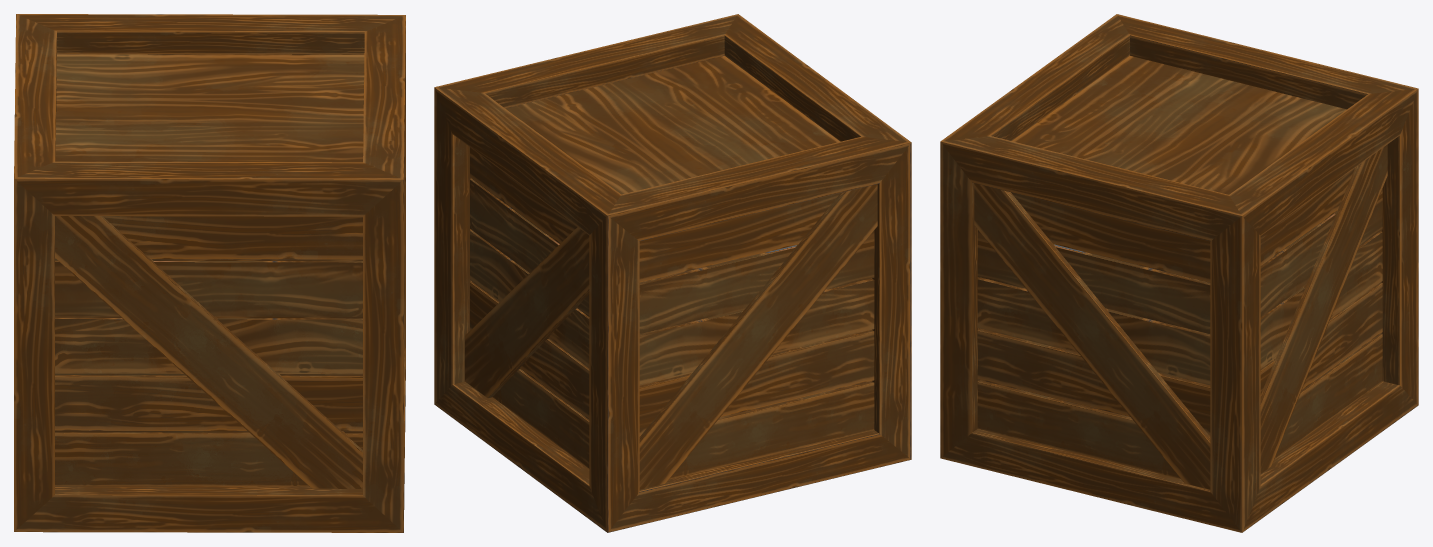
The picture shows the model from 3 angles, left to right: view 1: azimuth 30°, elevation 25°; view 2: azimuth 150°, elevation 25°; view 3: azimuth 270°, elevation 25°; orthographic projection. The views are drawn at different scales.
Parts seen in each view (by area): view 1: Cube.1839; view 2: Cube.1839; view 3: Cube.1839.
Part boxes in pixels (x1,y1,x2,y2): Cube.1839: [14, 14, 405, 532]; Cube.1839: [434, 14, 911, 532]; Cube.1839: [940, 14, 1418, 532].
Bounding box in the file's own units: 151 × 110 × 151.
1 material, 1 textured.
